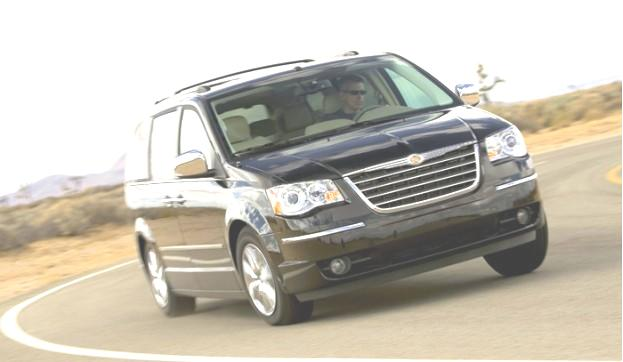Chrysler: (359, 139, 485, 174)
